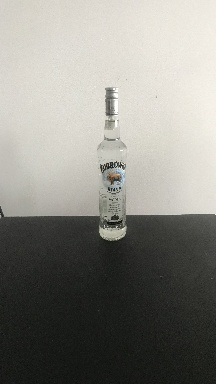butelka: (95, 84, 128, 244)
